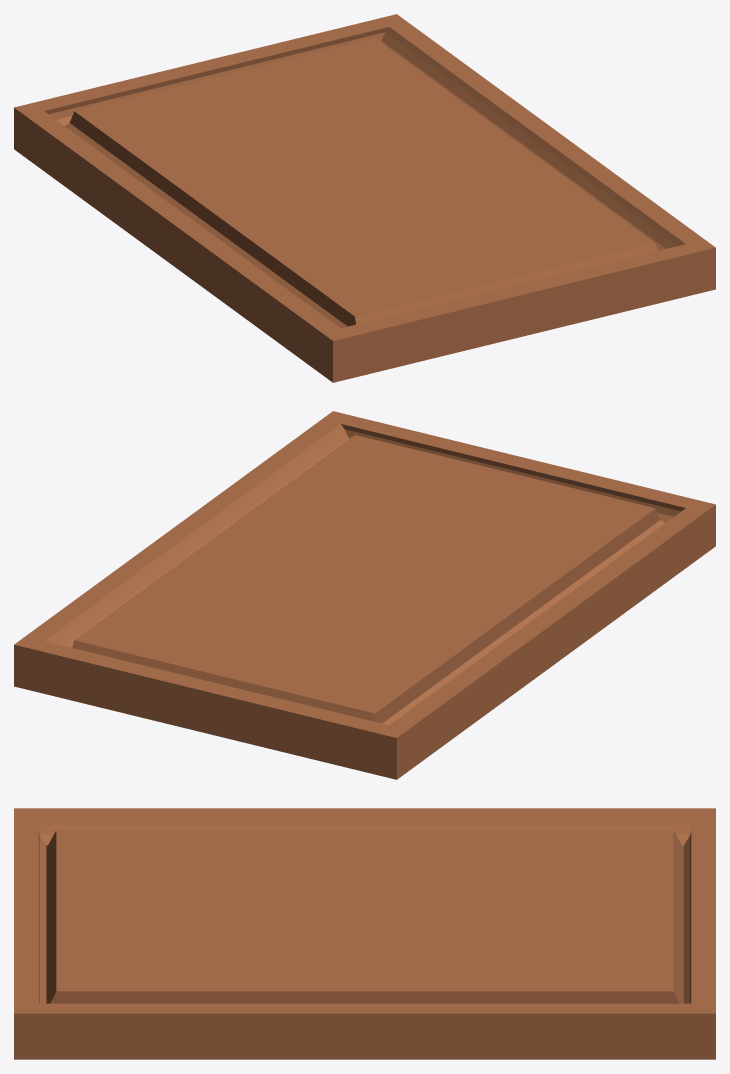
The model's file is board2.fbx.
3 views of the same model, one above another, from view 1: azimuth 30°, elevation 25°; view 2: azimuth 150°, elevation 25°; view 3: azimuth 270°, elevation 25° (orthographic). The views are drawn at different scales.
Visible parts, largest first — view 1: board2; view 2: board2; view 3: board2.
Part boxes in pixels (left/top/right/bottom): board2: left=14, top=14, right=715, bottom=382; board2: left=14, top=411, right=715, bottom=779; board2: left=14, top=808, right=715, bottom=1059.
Size of the model in its own units: 5.69 by 8.22 by 0.5989.
